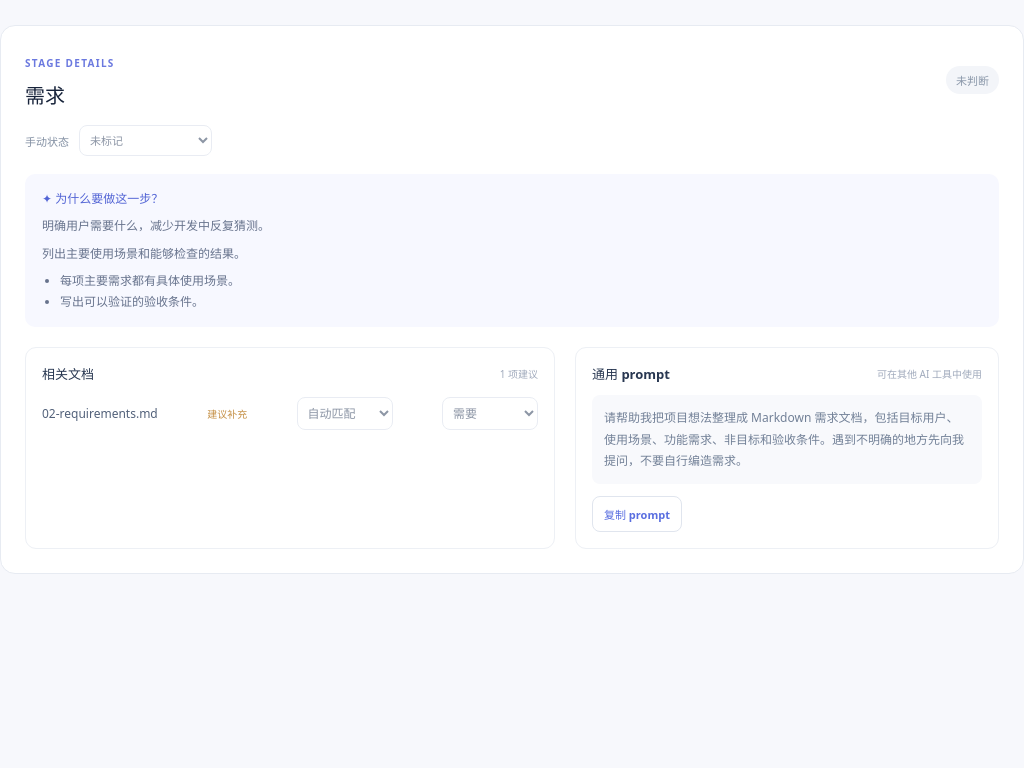
Test case: safe read-only document display › shows selectable prompt text if clipboard access fails
Click the button "复制 prompt" at (637, 514), box [592,496,682,532]
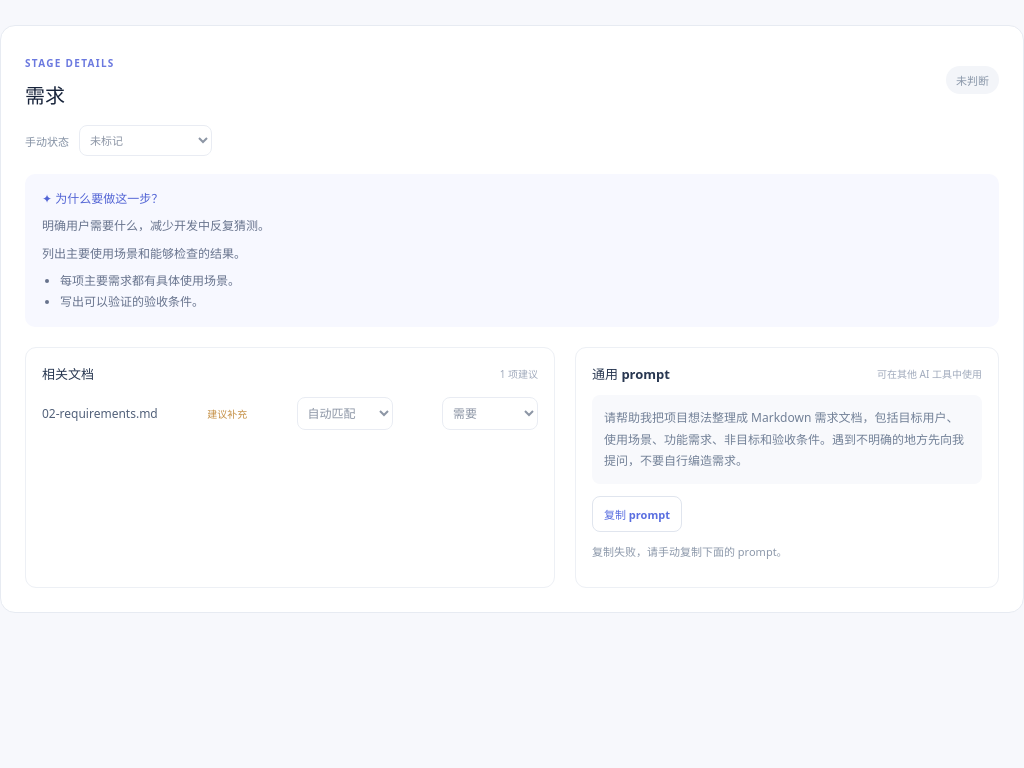
Expected: the text "请帮助我把项目想法整理成 Markdown 需求文档，包括目标用户、使用场景、功能需求、非目标和验收条件。遇到不明确的地方先向我提问，不要自行编造需求。" is shown, [592,395,982,484]
Result: the text "复制失败，请手动复制下面的 prompt。" is shown at [592,544,788,559]
